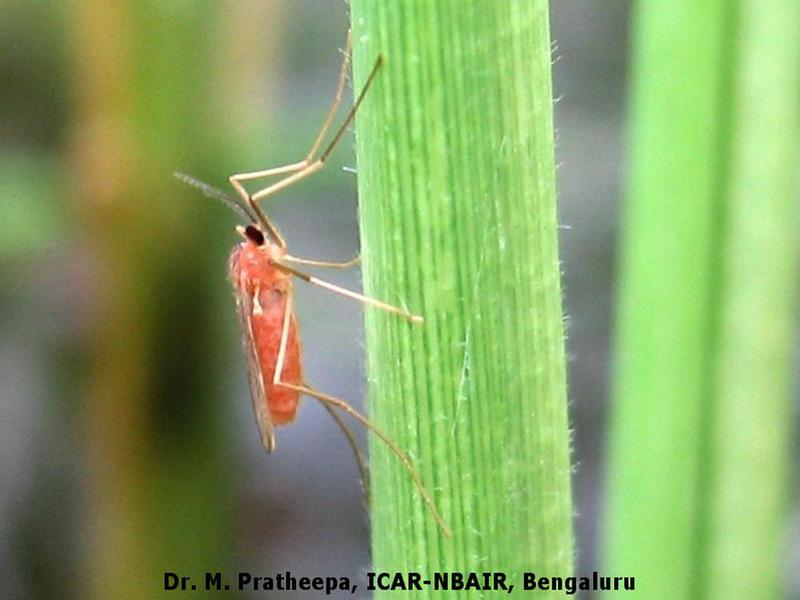Gall_midge: (154, 171, 400, 487)
